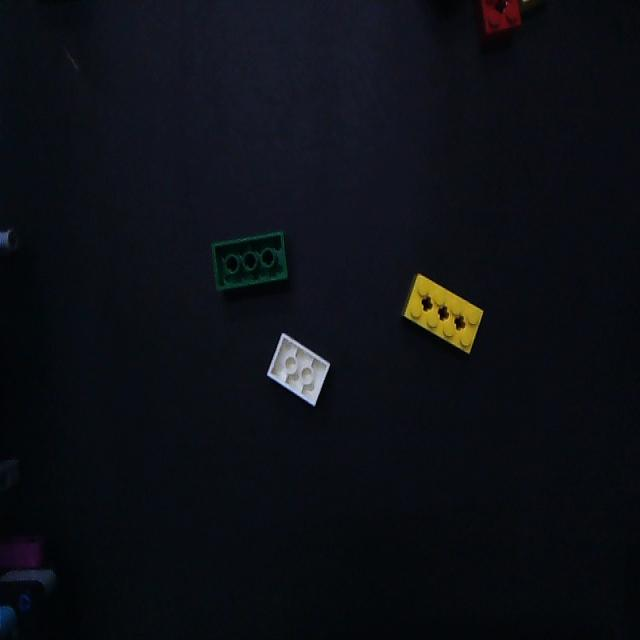lego_brick: (404, 273, 482, 352), (267, 336, 329, 405), (212, 232, 287, 289), (477, 0, 521, 39)
